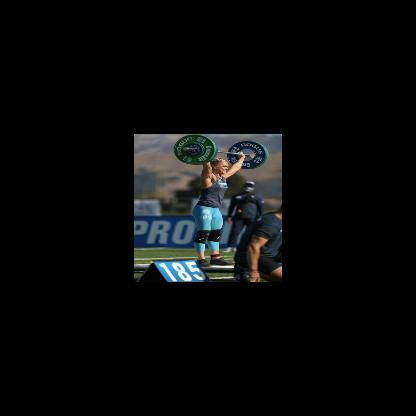barbell: (174, 134, 216, 165)
